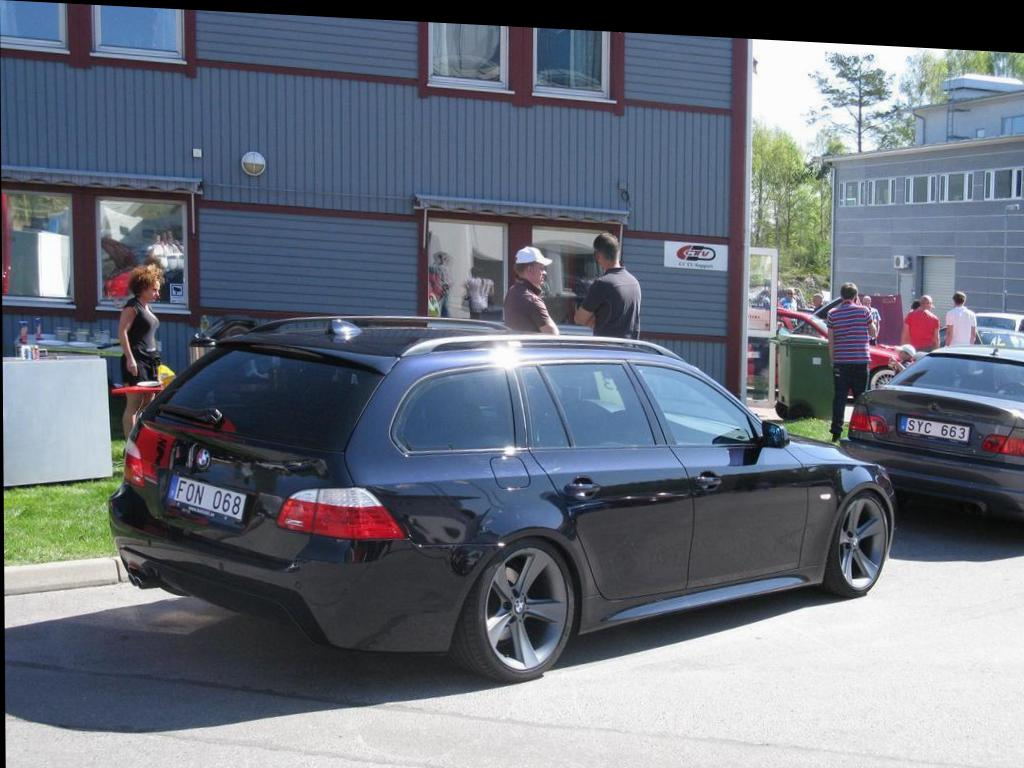License_Plate: (165, 474, 248, 525), (897, 418, 969, 445)
